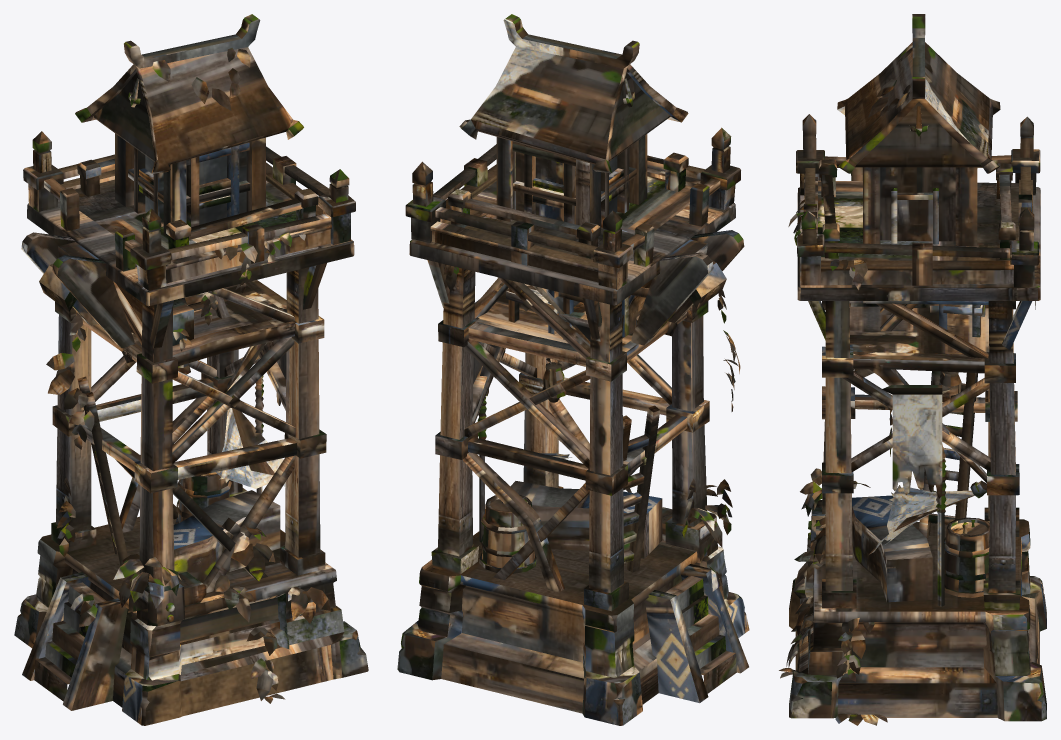
The model's file is medieval+watchtower+3d+model(1).fbx.
3 renders of one model, left to right at view 1: azimuth 30°, elevation 25°; view 2: azimuth 150°, elevation 25°; view 3: azimuth 270°, elevation 25°, orthographic.
Visible parts, largest first — view 1: e4f3ef14_d548_4bee_b8a0_0da5b1fb8a20; view 2: e4f3ef14_d548_4bee_b8a0_0da5b1fb8a20; view 3: e4f3ef14_d548_4bee_b8a0_0da5b1fb8a20.
Boxes of the visible parts, x1,y1,x2,y2 form: e4f3ef14_d548_4bee_b8a0_0da5b1fb8a20: (14, 14, 368, 725); e4f3ef14_d548_4bee_b8a0_0da5b1fb8a20: (397, 14, 749, 725); e4f3ef14_d548_4bee_b8a0_0da5b1fb8a20: (779, 14, 1046, 725).
Size of the model in its own units: 0.4731 by 0.9995 by 0.3911.
